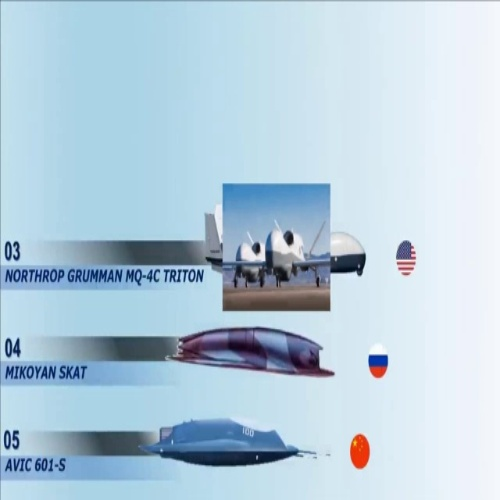uav: (132, 411, 330, 473), (154, 327, 341, 385), (223, 213, 329, 297)
